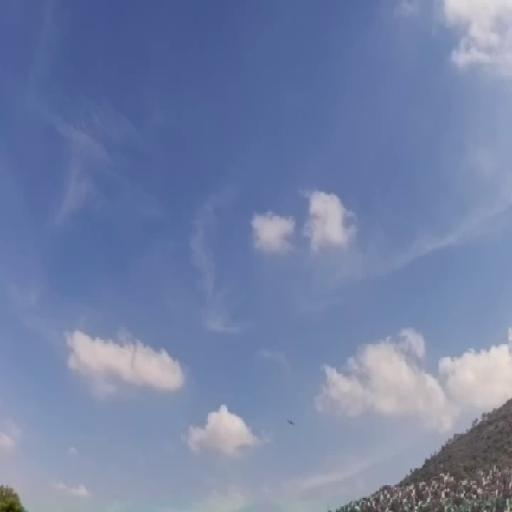drones: (284, 414, 298, 429)
